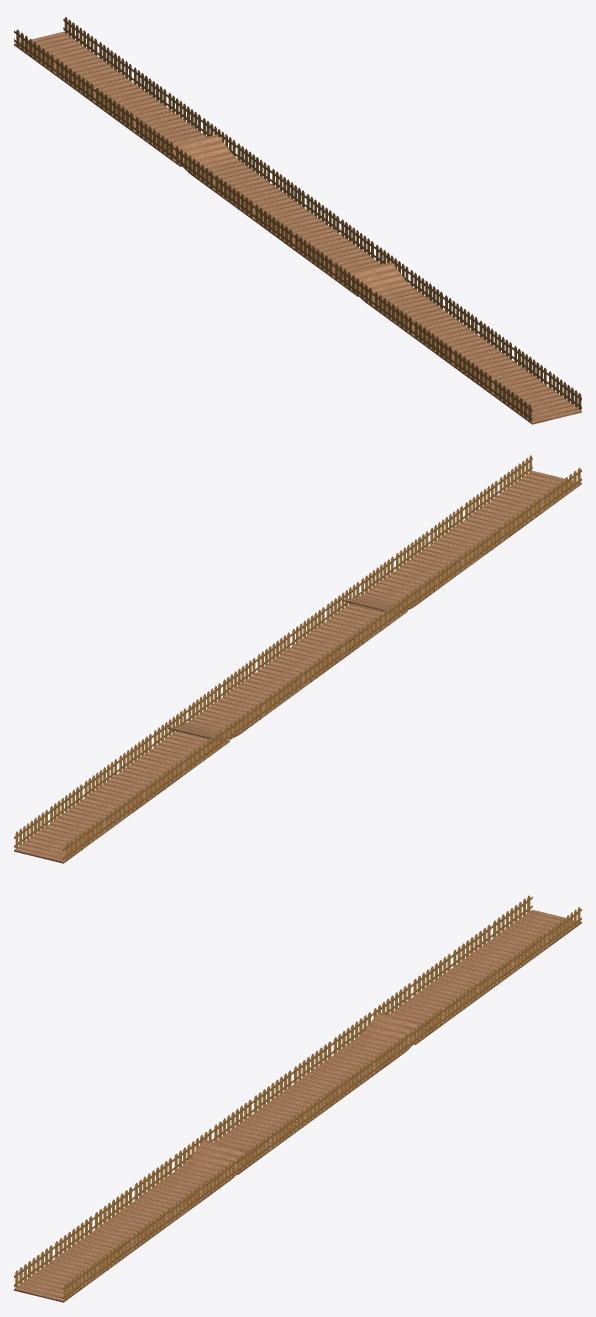
The model's file is TRACK4.fbx.
The picture shows the model from 3 angles, top to bottom: view 1: azimuth 30°, elevation 25°; view 2: azimuth 150°, elevation 25°; view 3: azimuth 330°, elevation 25°; orthographic projection.
Visible parts, largest first — view 1: Cube.008, Cube.005, Cube.006, Cube.007; view 2: Cube.008, Cube.005, Cube.006, Cube.007; view 3: Cube.008, Cube.005, Cube.006, Cube.007.
Boxes of the visible parts, x1,y1,x2,y2 form: Cube.008: (14,17,581,422); Cube.005: (342,262,581,424); Cube.006: (168,134,380,296); Cube.007: (14,31,206,166); Cube.008: (14,455,581,859); Cube.005: (342,470,581,613); Cube.006: (168,603,407,740); Cube.007: (14,731,229,863); Cube.008: (14,895,581,1300); Cube.005: (14,1140,251,1302); Cube.006: (214,1012,427,1174); Cube.007: (389,909,581,1044).
Bounding box in the file's own units: 509 × 185 × 9213.
Materials: 2 (2 with a texture image).
